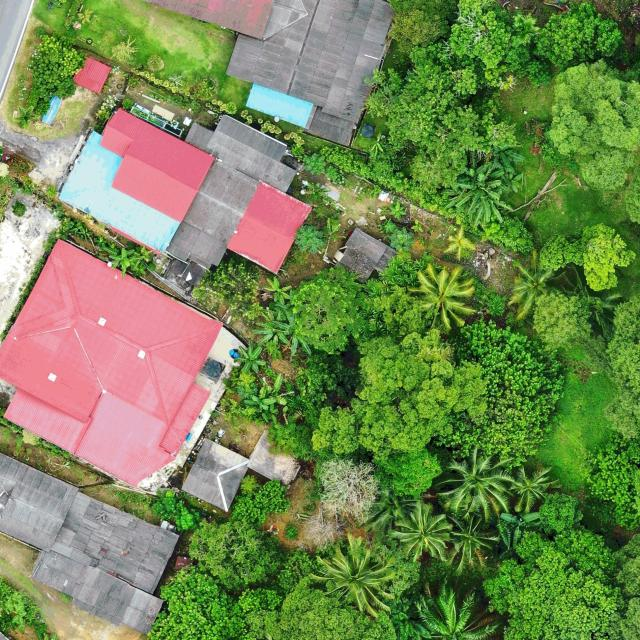Tree: (307, 328, 489, 458), (363, 44, 517, 193), (432, 318, 564, 463), (485, 527, 623, 640), (546, 57, 640, 193), (149, 568, 248, 640), (188, 516, 280, 591), (539, 223, 634, 294), (315, 533, 396, 616), (290, 263, 360, 358), (437, 446, 516, 523), (534, 0, 624, 65), (413, 585, 507, 640), (588, 433, 640, 531), (191, 252, 260, 324), (314, 451, 381, 525), (605, 296, 640, 437), (440, 0, 513, 67), (409, 263, 476, 334), (507, 252, 562, 326), (369, 446, 442, 498), (30, 32, 86, 98), (531, 288, 589, 350), (391, 501, 451, 560), (230, 475, 291, 526), (446, 512, 497, 573), (444, 184, 511, 230), (384, 0, 454, 42), (507, 462, 559, 512), (455, 160, 522, 195), (536, 491, 586, 535), (485, 213, 535, 254), (271, 309, 313, 357), (250, 302, 290, 346), (113, 244, 154, 278), (488, 144, 525, 175), (244, 393, 278, 426), (233, 342, 265, 374), (260, 373, 288, 405), (264, 277, 292, 304), (110, 39, 138, 65), (12, 104, 40, 130)
